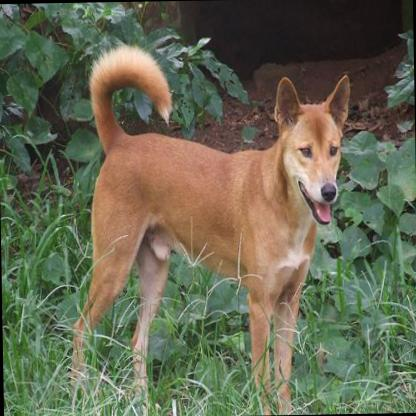dingo: (61, 36, 355, 416)
